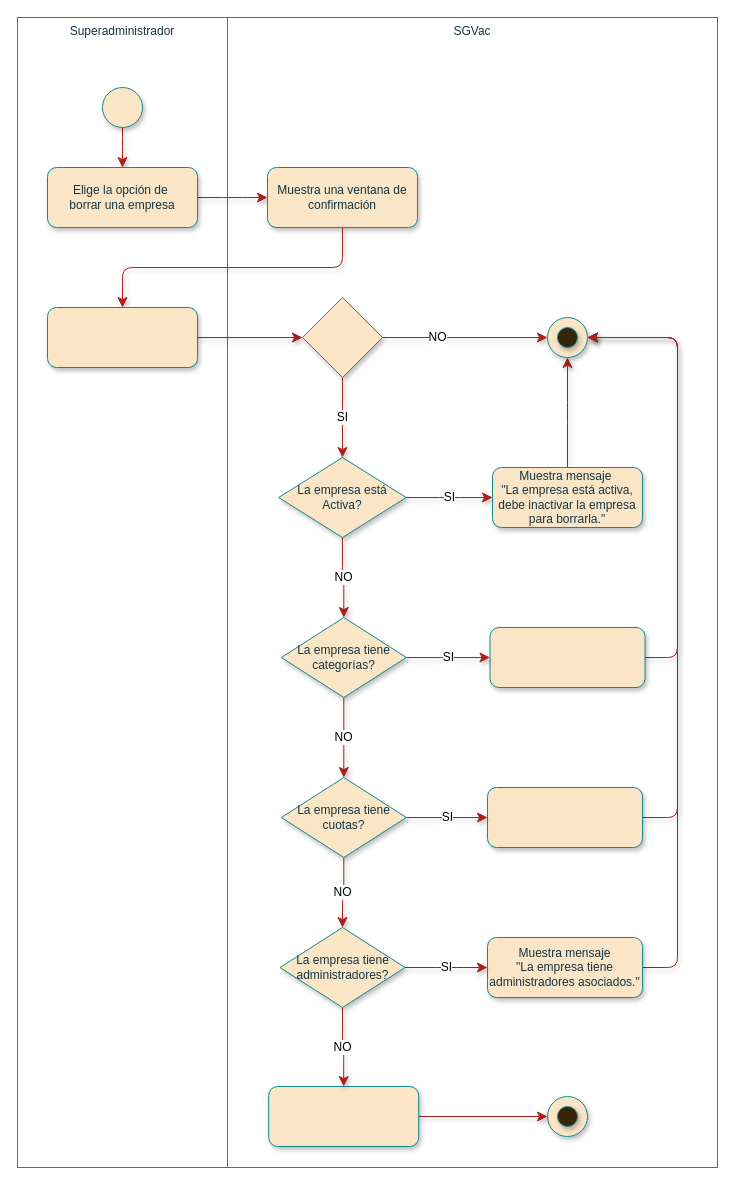
This 735x1185 diagram has some shape labels left out. Here are the shapes that lost their labels. From the top down, the centre of each, then its label:
[123,338]: Confirma o cancela
[343,338]: Confirma borrado?
[568,658]: Muestra mensaje "La empresa tiene categorías asociadas."
[565,818]: Muestra mensaje "La empresa tiene cuotas asociadas."
[344,1118]: Borra la empresa
